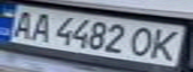2: (103, 20, 130, 55)
4: (69, 17, 93, 51), (51, 15, 75, 47)
8: (87, 19, 109, 52)
A: (3, 8, 39, 39), (24, 10, 57, 43)
K: (145, 27, 187, 62)
O: (124, 25, 160, 58)
